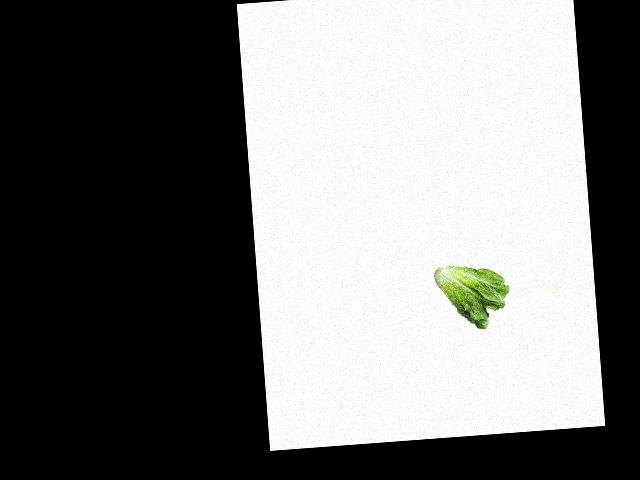lettuce: (433, 258, 513, 334)
